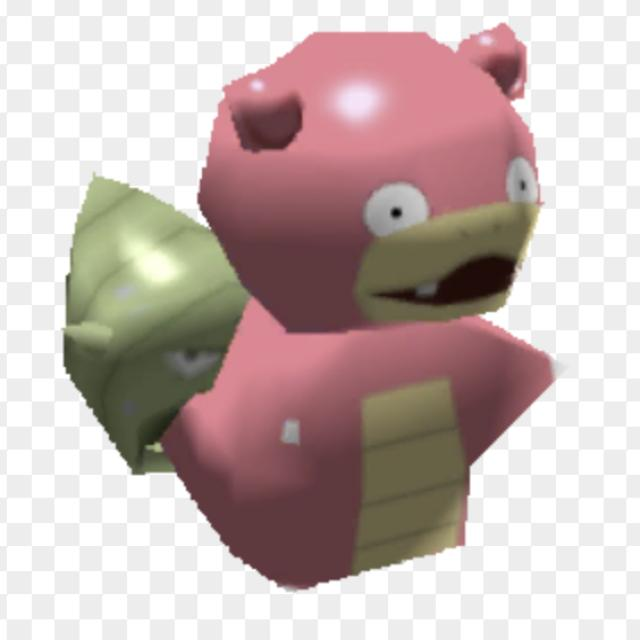Slowbro: (114, 28, 540, 559)
